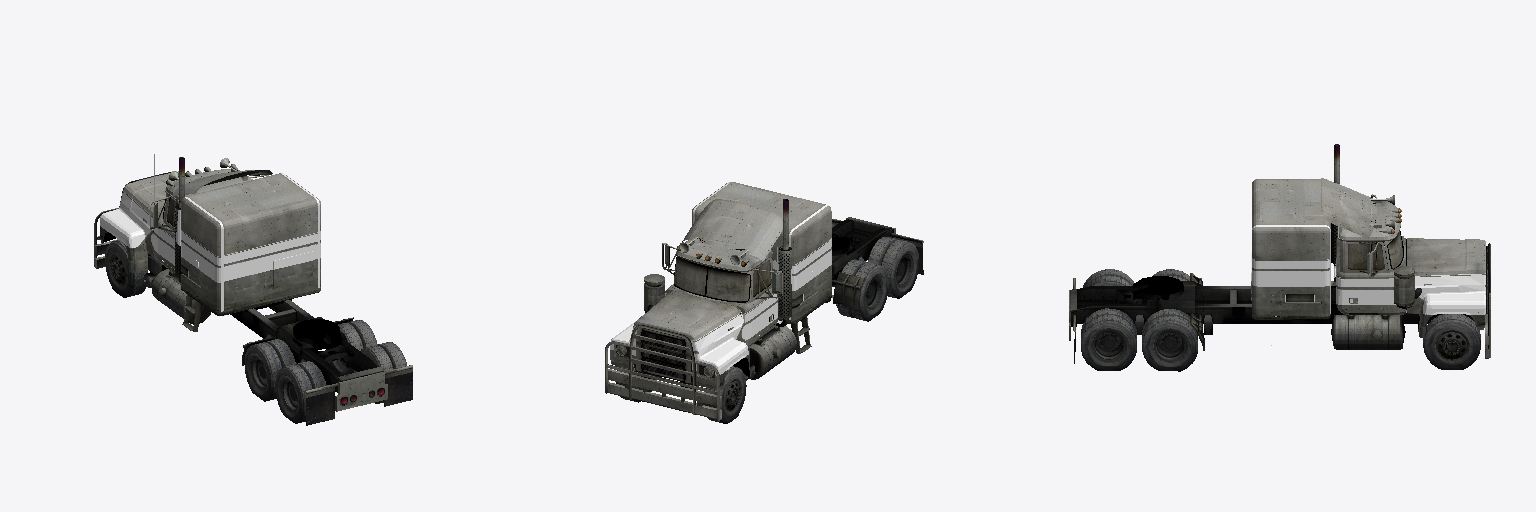
3 renders of one model, left to right at view 1: azimuth 30°, elevation 25°; view 2: azimuth 150°, elevation 25°; view 3: azimuth 270°, elevation 25°, orthographic.
Parts seen in each view (by area): view 1: truck; view 2: truck, glassGroup; view 3: truck, glassGroup.
Boxes of the visible parts, x1,y1,x2,y2 form: truck: [94, 154, 412, 425]; truck: [605, 182, 923, 423]; glassGroup: [617, 258, 770, 375]; truck: [1069, 144, 1490, 371]; glassGroup: [1348, 231, 1402, 269].
Bounding box in the file's own units: 116 × 164 × 352.
Materials: 2 (2 with a texture image).